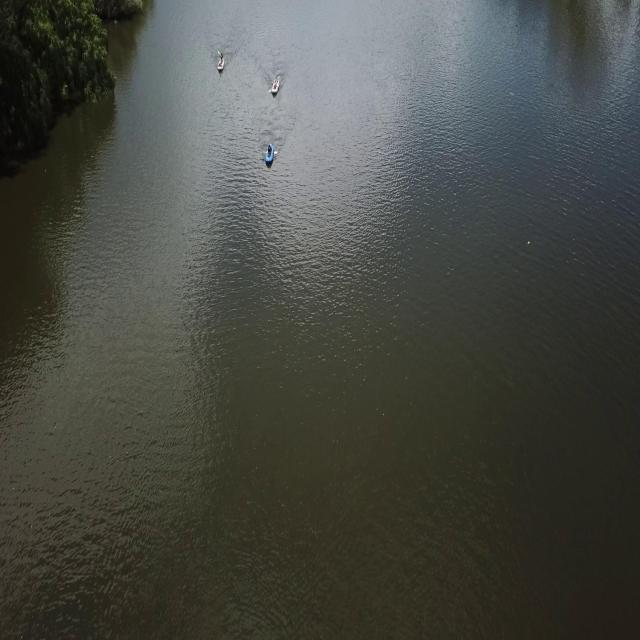kayak: (268, 72, 282, 98), (263, 141, 276, 168), (217, 49, 227, 73)
